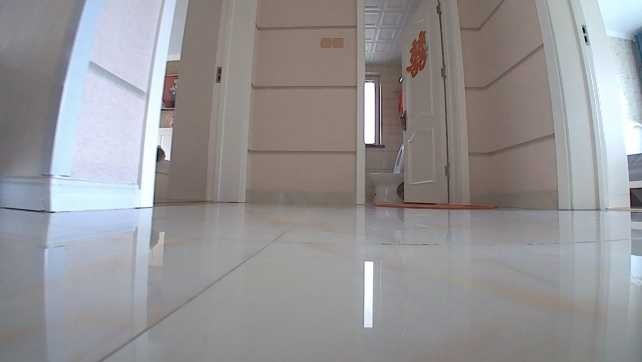door_anno: (398, 0, 472, 203)
toilet: (368, 145, 405, 203)
